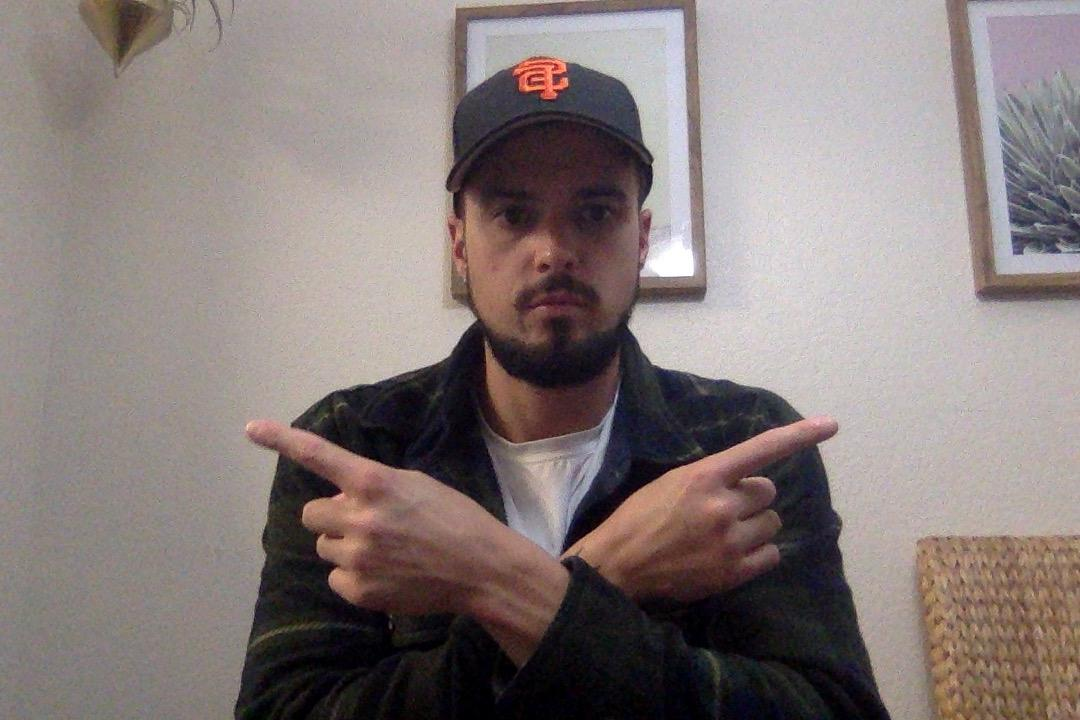Point-Left: (574, 408, 847, 597)
Point-Right: (239, 416, 538, 628)
